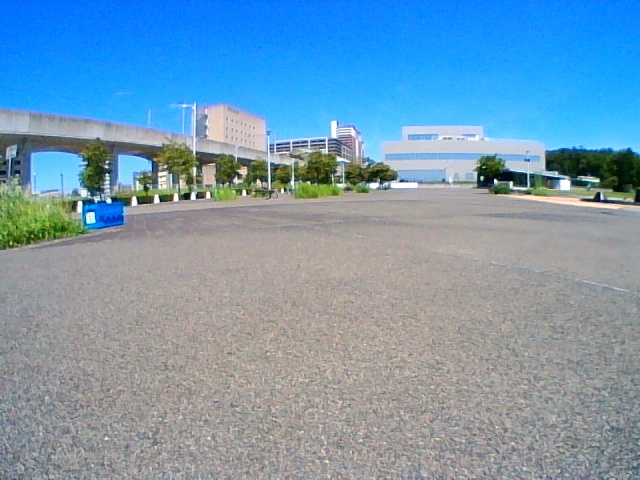blue_box: (83, 204, 123, 227)
tag: (86, 212, 94, 224)
